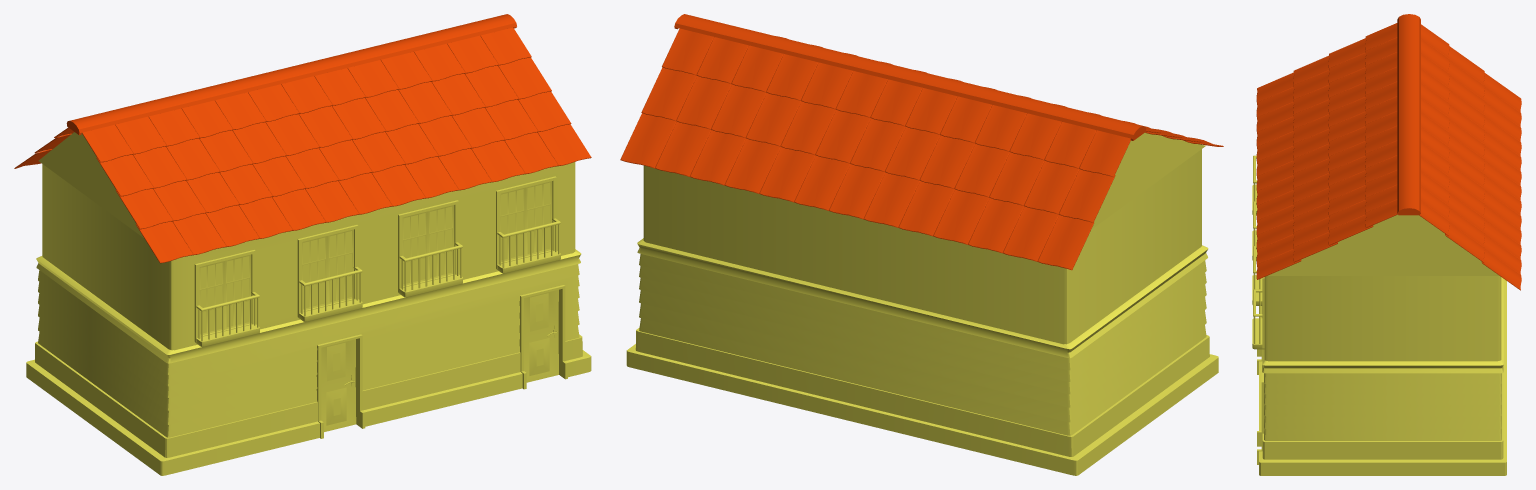
The model's file is BuildingLviv1.fbx.
3 views of the same model, side by side, from view 1: azimuth 30°, elevation 25°; view 2: azimuth 150°, elevation 25°; view 3: azimuth 270°, elevation 25° (orthographic). The views are drawn at different scales.
Parts seen in each view (by area): view 1: bovenverdieping; view 2: bovenverdieping; view 3: bovenverdieping.
Part boxes in pixels (box(x1,y1,x2,y2)): bovenverdieping: box(14, 14, 591, 475); bovenverdieping: box(620, 14, 1223, 475); bovenverdieping: box(1252, 14, 1521, 475).
Size of the model in its own units: 11.43 by 7.37 by 6.7.
